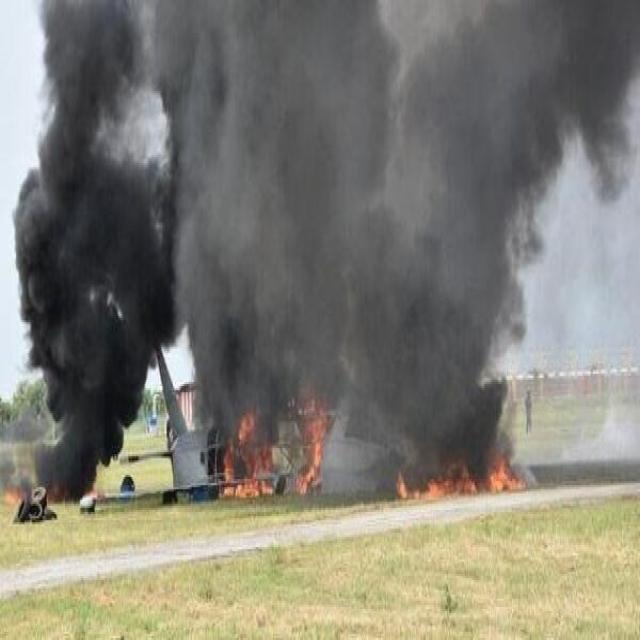fire: (393, 439, 527, 499), (216, 403, 277, 503), (284, 386, 338, 498), (3, 470, 27, 517)
smoke: (388, 8, 628, 420), (175, 0, 385, 403), (8, 0, 173, 495)
